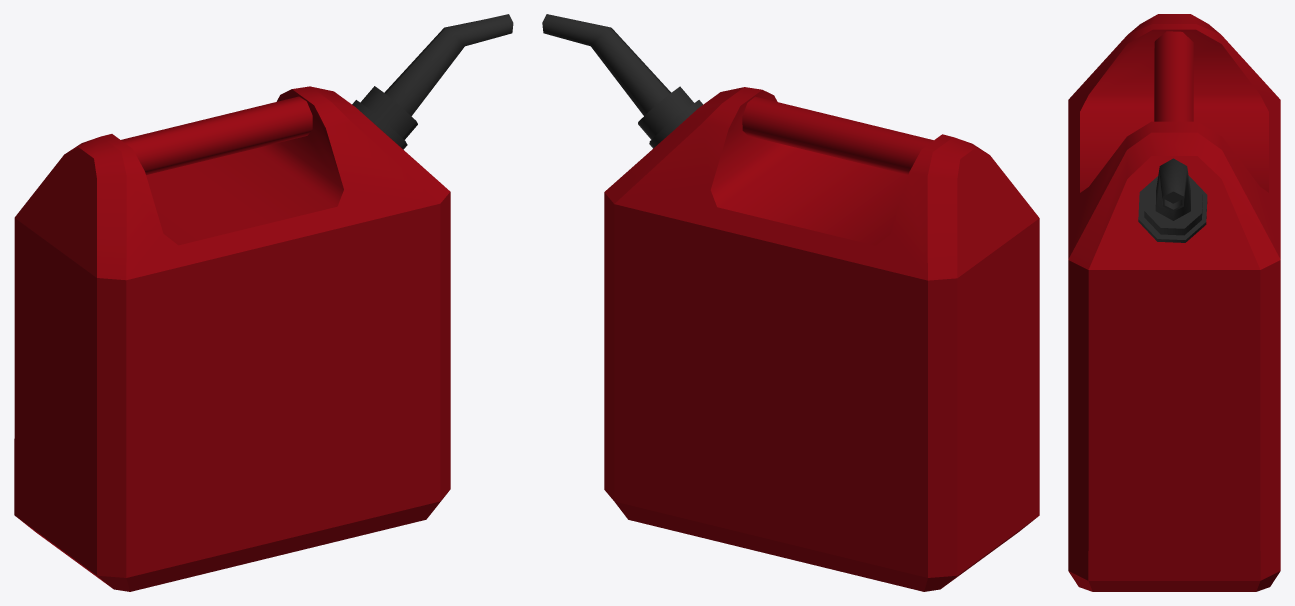
File: gas can.fbx
The picture shows the model from 3 angles, left to right: view 1: azimuth 30°, elevation 25°; view 2: azimuth 150°, elevation 25°; view 3: azimuth 270°, elevation 25°; orthographic projection. The views are drawn at different scales.
Visible parts, largest first — view 1: gas can; view 2: gas can; view 3: gas can.
Boxes of the visible parts, x1,y1,x2,y2 form: gas can: [14, 14, 513, 591]; gas can: [542, 14, 1039, 591]; gas can: [1068, 14, 1280, 591].
Size of the model in its own units: 0.8067 by 0.7534 by 0.3142.
